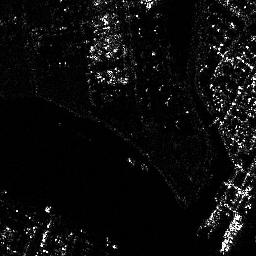ship: (224, 216, 244, 252)
